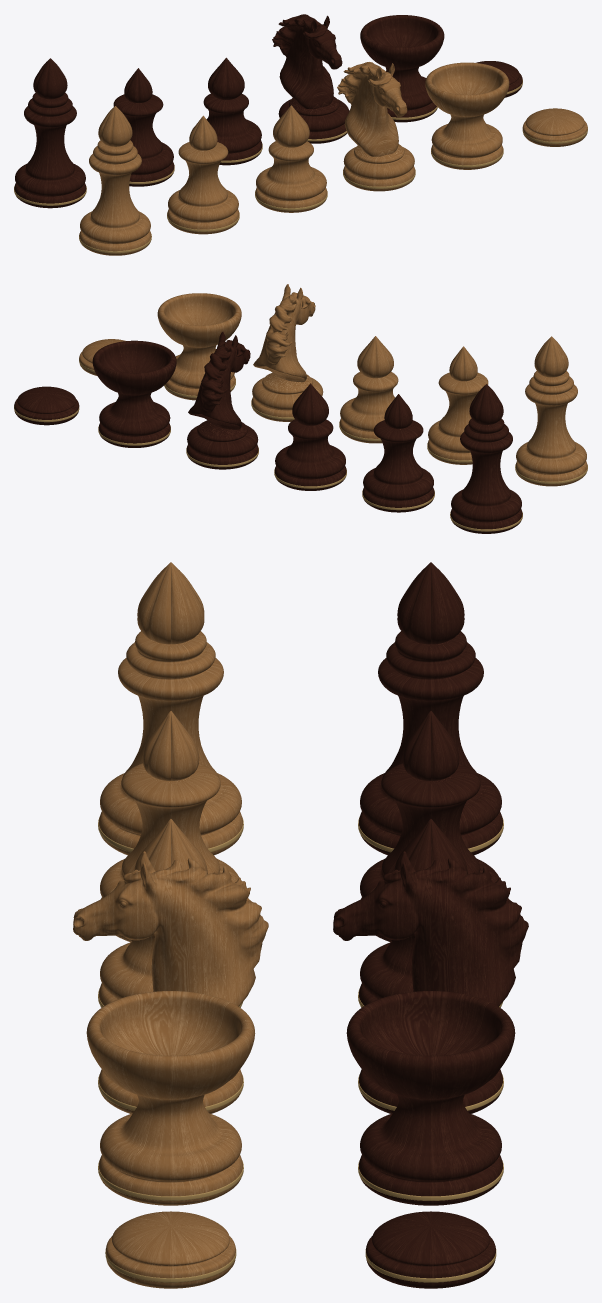
Rendered from atelier.glb.
3 views of the same model, one above another, from view 1: azimuth 30°, elevation 25°; view 2: azimuth 150°, elevation 25°; view 3: azimuth 270°, elevation 25° (orthographic). The views are drawn at different scales.
Parts seen in each view (by area): view 1: Touk hollow turned bowl, Turned foot waist and collars.003, Turned foot waist and collars, Touk hollow turned bowl.001, Ses carved anatomical bust.001, Ses carved anatomical bust, Turned foot waist and collars.001, Turned foot waist and collars.002, Turned foot waist and collars.004, Turned foot waist and collars.005, Ses turned foot, Trey domed counter (+8 smaller); view 2: Touk hollow turned bowl.001, Turned foot waist and collars.003, Turned foot waist and collars, Touk hollow turned bowl, Turned foot waist and collars.004, Turned foot waist and collars.005, Ses carved anatomical bust.001, Ses carved anatomical bust, Turned foot waist and collars.001, Ses turned foot.001, Turned foot waist and collars.002, Ses turned foot (+8 smaller); view 3: Touk hollow turned bowl, Touk hollow turned bowl.001, Ses carved anatomical bust.001, Ses carved anatomical bust, Turned foot waist and collars.003, Turned foot waist and collars, Trey domed counter.001, Trey domed counter, Turned foot waist and collars.001, Turned foot waist and collars.004, Incised lotus bud, Incised lotus bud.003 (+8 smaller).
Part boxes in pixels (x1,y1,x2,y2): Touk hollow turned bowl: [425, 62, 509, 169]; Turned foot waist and collars.003: [14, 92, 86, 208]; Turned foot waist and collars: [79, 140, 151, 255]; Touk hollow turned bowl.001: [360, 15, 444, 122]; Ses carved anatomical bust.001: [272, 14, 342, 109]; Ses carved anatomical bust: [337, 62, 407, 156]; Turned foot waist and collars.001: [167, 142, 239, 234]; Turned foot waist and collars.002: [255, 141, 327, 212]; Turned foot waist and collars.004: [113, 94, 174, 186]; Turned foot waist and collars.005: [203, 93, 262, 165]; Ses turned foot: [343, 144, 415, 191]; Trey domed counter: [522, 108, 587, 146]; Touk hollow turned bowl.001: [92, 340, 176, 447]; Turned foot waist and collars.003: [450, 418, 522, 533]; Turned foot waist and collars: [515, 371, 587, 486]; Touk hollow turned bowl: [157, 293, 241, 400]; Turned foot waist and collars.004: [362, 420, 434, 512]; Turned foot waist and collars.005: [274, 419, 346, 490]; Ses carved anatomical bust.001: [188, 331, 250, 429]; Ses carved anatomical bust: [253, 284, 315, 382]; Turned foot waist and collars.001: [427, 372, 488, 464]; Ses turned foot.001: [186, 420, 258, 469]; Turned foot waist and collars.002: [339, 372, 408, 443]; Ses turned foot: [251, 372, 323, 421]; Touk hollow turned bowl: [86, 991, 255, 1205]; Touk hollow turned bowl.001: [346, 991, 515, 1205]; Ses carved anatomical bust.001: [333, 851, 528, 1006]; Ses carved anatomical bust: [73, 851, 268, 1006]; Turned foot waist and collars.003: [359, 631, 502, 855]; Turned foot waist and collars: [98, 631, 242, 855]; Trey domed counter.001: [366, 1211, 495, 1288]; Trey domed counter: [105, 1211, 235, 1288]; Turned foot waist and collars.001: [100, 763, 239, 942]; Turned foot waist and collars.004: [360, 763, 499, 942]; Incised lotus bud: [137, 562, 204, 644]; Incised lotus bud.003: [397, 562, 464, 644].
Size of the model in its own units: 0.2841 by 0.0741 by 0.1122.
5 materials, 4 textured.
